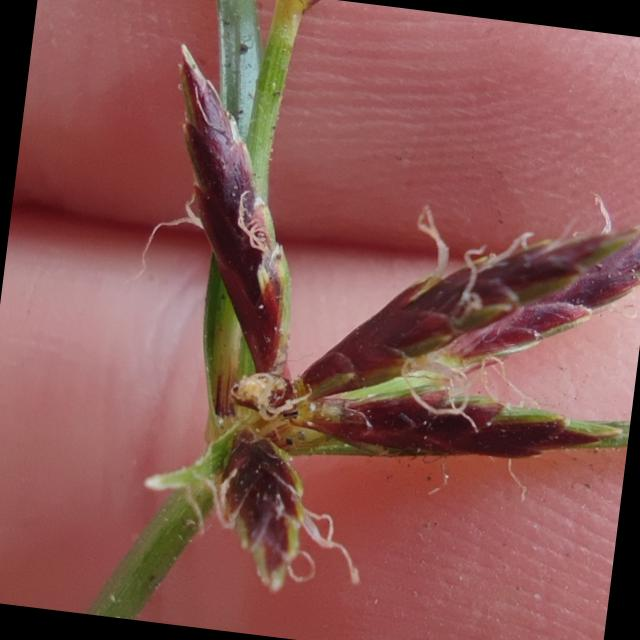cyperus: (90, 30, 640, 640)
